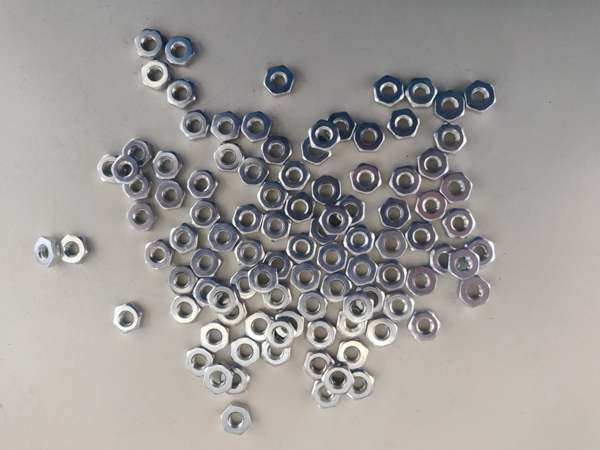nut: (308, 119, 341, 153), (448, 247, 480, 281), (350, 163, 382, 196), (415, 190, 448, 222), (463, 237, 496, 269), (458, 276, 491, 308), (375, 259, 407, 292), (366, 316, 398, 349), (305, 318, 337, 351), (465, 80, 496, 114), (439, 173, 473, 204), (318, 205, 352, 236), (343, 291, 374, 325), (263, 65, 295, 97), (317, 242, 349, 274), (405, 265, 437, 297), (383, 291, 415, 323), (316, 242, 348, 274), (434, 90, 465, 123), (443, 209, 476, 240), (206, 284, 239, 315), (285, 193, 318, 224), (290, 261, 321, 294), (345, 224, 376, 257), (408, 310, 441, 341), (378, 199, 412, 229), (418, 149, 449, 181), (389, 166, 421, 197), (114, 302, 145, 334), (60, 234, 92, 265), (180, 109, 211, 141), (211, 111, 242, 143), (221, 405, 253, 436), (261, 211, 293, 242), (199, 321, 230, 353), (202, 364, 234, 395), (297, 290, 328, 322), (346, 254, 377, 286), (249, 263, 279, 296), (355, 285, 388, 315), (404, 224, 438, 253), (142, 60, 173, 91), (244, 312, 275, 343), (304, 350, 335, 381), (344, 370, 375, 401), (374, 76, 404, 108), (388, 110, 420, 140), (430, 245, 460, 277), (261, 135, 293, 165), (233, 204, 263, 236), (337, 340, 369, 370), (434, 125, 467, 154), (187, 170, 220, 199), (237, 158, 270, 187), (321, 366, 354, 395), (241, 112, 272, 142), (155, 180, 186, 210), (185, 347, 215, 378), (312, 175, 342, 206), (406, 79, 438, 108), (353, 123, 385, 152), (125, 203, 157, 232), (144, 239, 173, 271), (278, 162, 310, 191), (325, 112, 357, 141), (376, 231, 408, 260), (336, 311, 368, 340), (258, 181, 288, 211), (287, 235, 317, 265), (170, 224, 199, 255), (190, 200, 221, 229), (168, 78, 196, 110), (122, 139, 151, 169), (152, 151, 182, 180), (167, 266, 197, 295), (210, 223, 239, 253), (267, 321, 297, 350), (336, 196, 365, 226), (191, 250, 222, 278), (170, 295, 201, 323), (262, 339, 291, 368), (165, 37, 195, 65), (214, 144, 244, 172), (231, 338, 259, 368), (230, 270, 258, 300), (218, 298, 248, 326), (275, 311, 305, 339), (234, 240, 265, 267), (135, 29, 163, 58), (112, 156, 141, 184), (321, 273, 349, 302), (263, 284, 293, 311), (302, 140, 332, 167), (312, 382, 342, 409), (264, 252, 293, 279), (35, 237, 61, 267), (98, 155, 125, 183), (310, 217, 337, 245), (194, 278, 219, 308), (222, 369, 250, 395), (124, 176, 153, 201)
